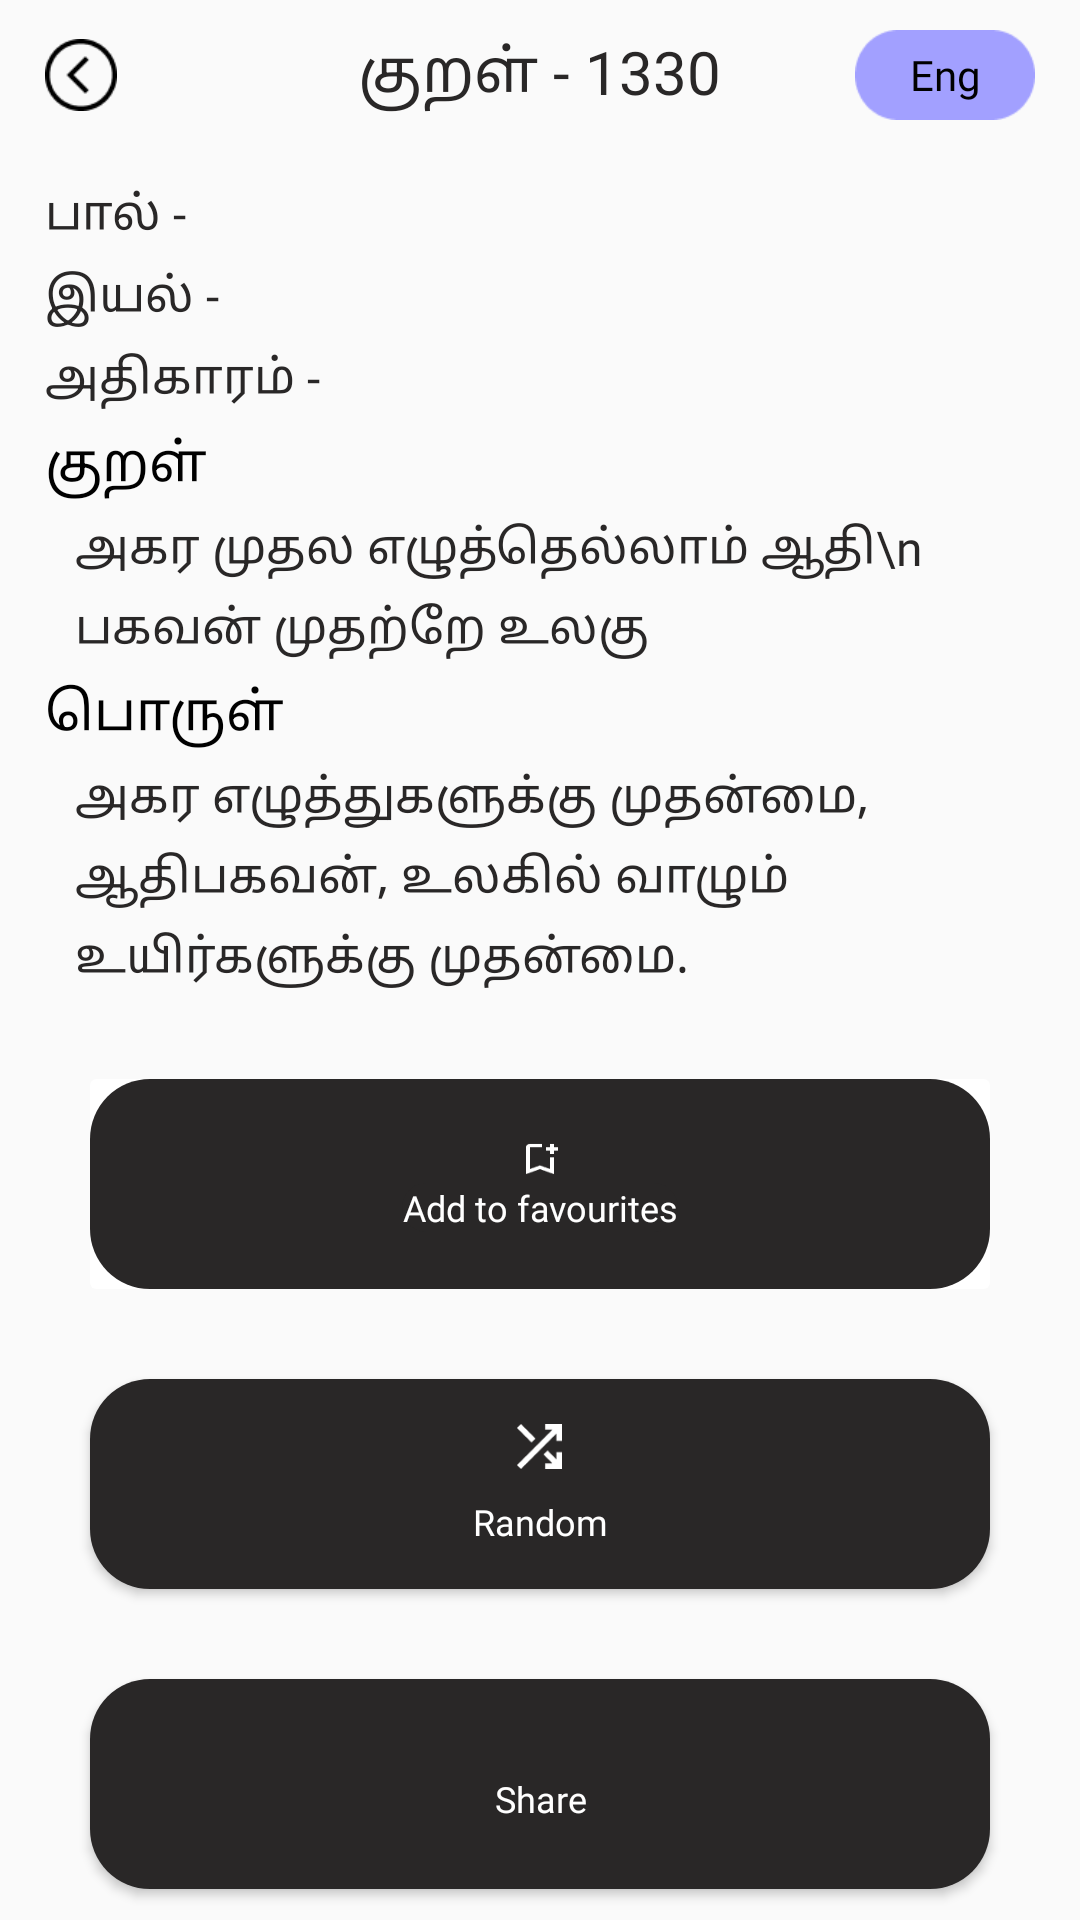

Icon click points for this 1080 × 1920 phone screenshot, format point (x, y):
back: point (81, 75)
